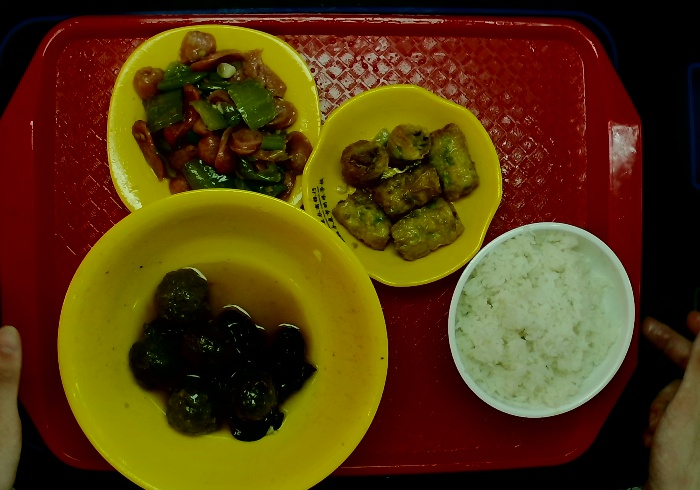YKMZ-Fan_Wan: (437, 215, 644, 421)
YKMZ-Huang_Se_Ao_Bian_Wan: (297, 78, 509, 294)
YKMZ-Huang_Se_Fang_Die: (102, 22, 324, 223)
YKMZ-Huang_Se_Tang_Wan: (52, 179, 398, 490)
